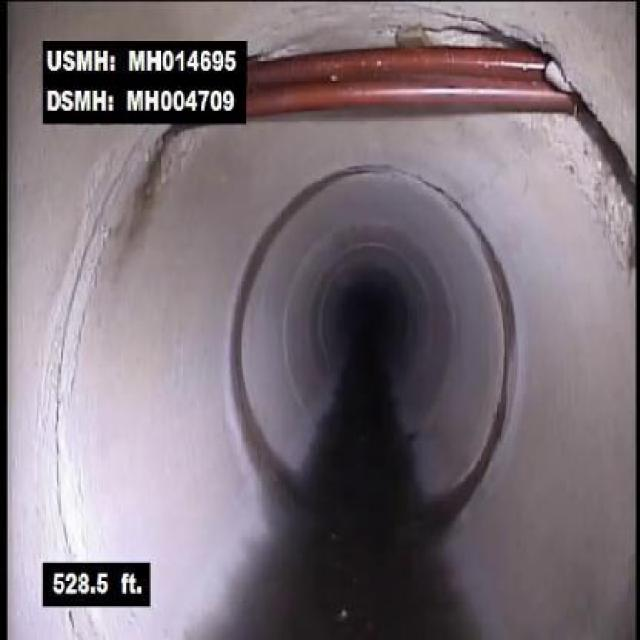Utility intrusion: (251, 30, 591, 136)
